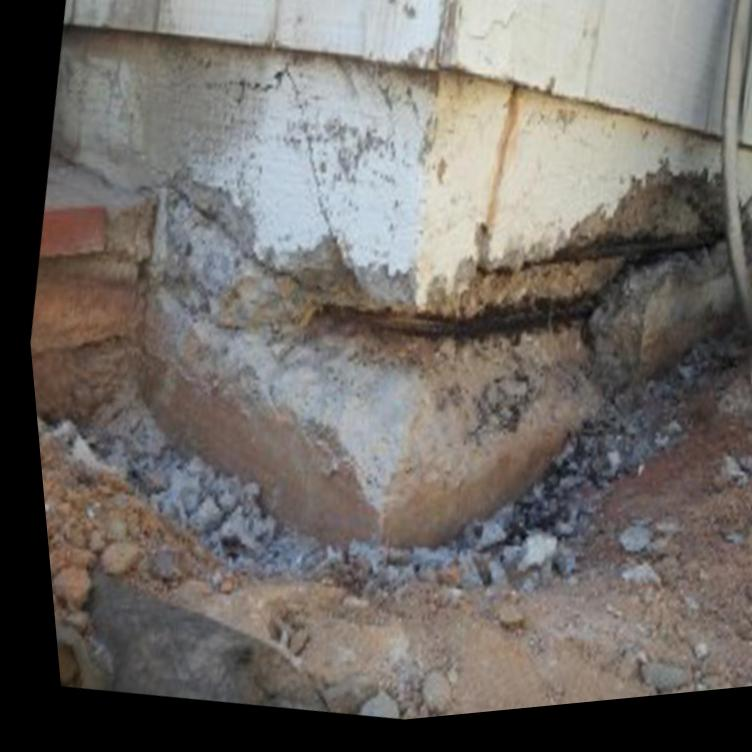crack: (280, 71, 329, 247)
damage: (146, 173, 723, 487)
